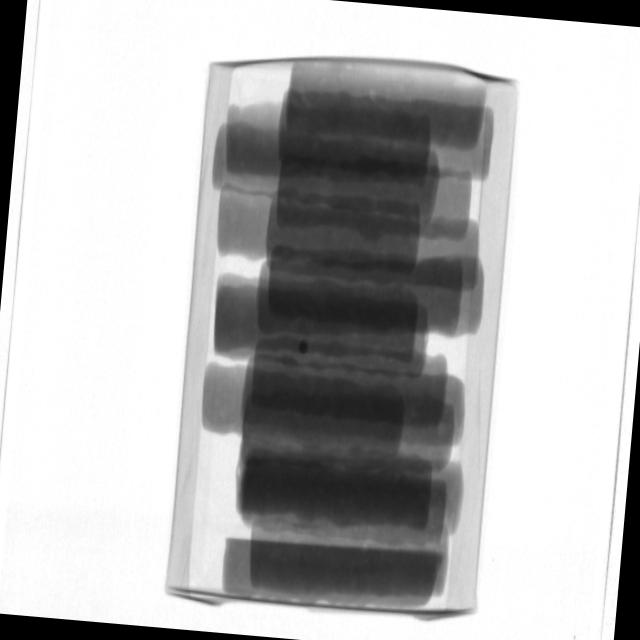ym: (298, 341, 310, 355)
